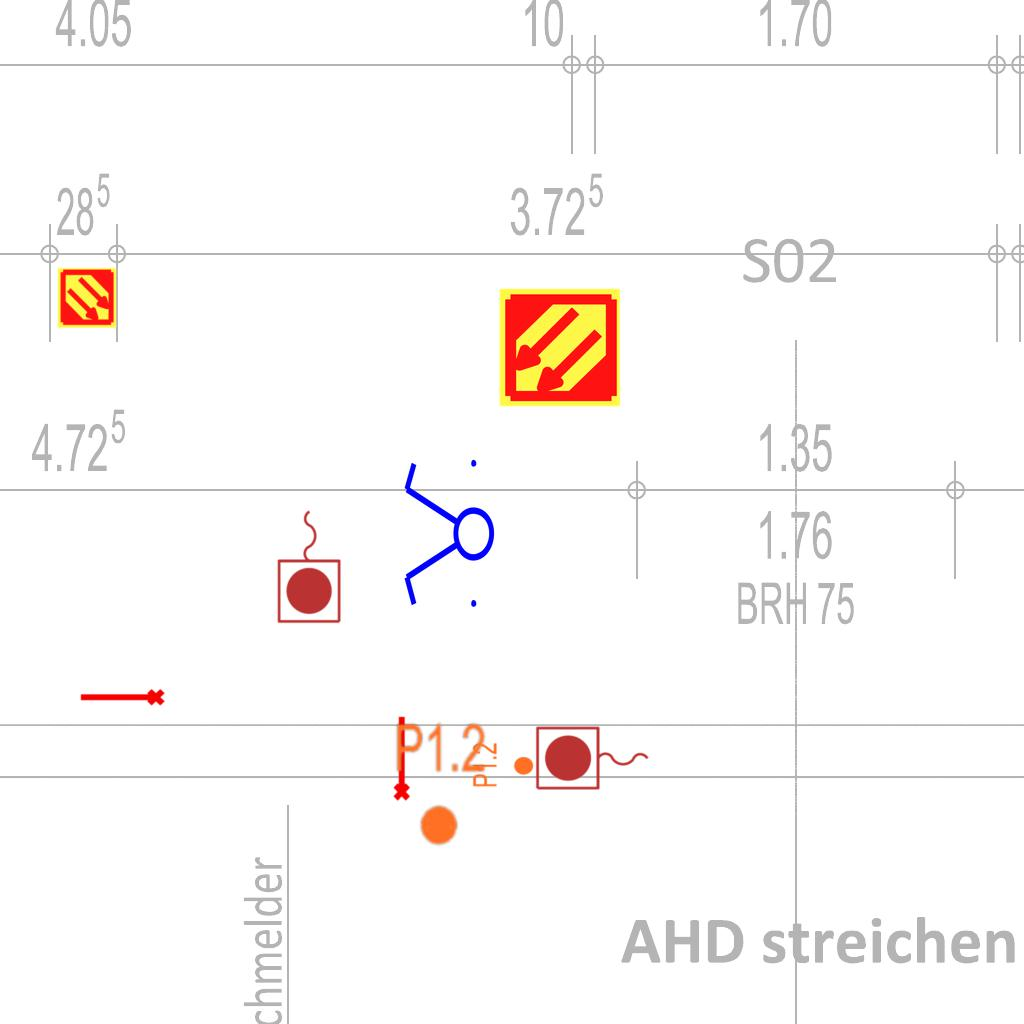ASR_Ansaugoeffnung: (78, 687, 166, 710), (389, 714, 412, 802)
ASR_Ansaugrauchmelder: (497, 285, 622, 410), (56, 267, 118, 329)
Downlight_LED_Einbauleuchten_Flur: (394, 720, 487, 848), (471, 742, 535, 788)
Serienschalter: (400, 451, 496, 619)
Zugtaster: (274, 505, 346, 627), (532, 723, 654, 795)
